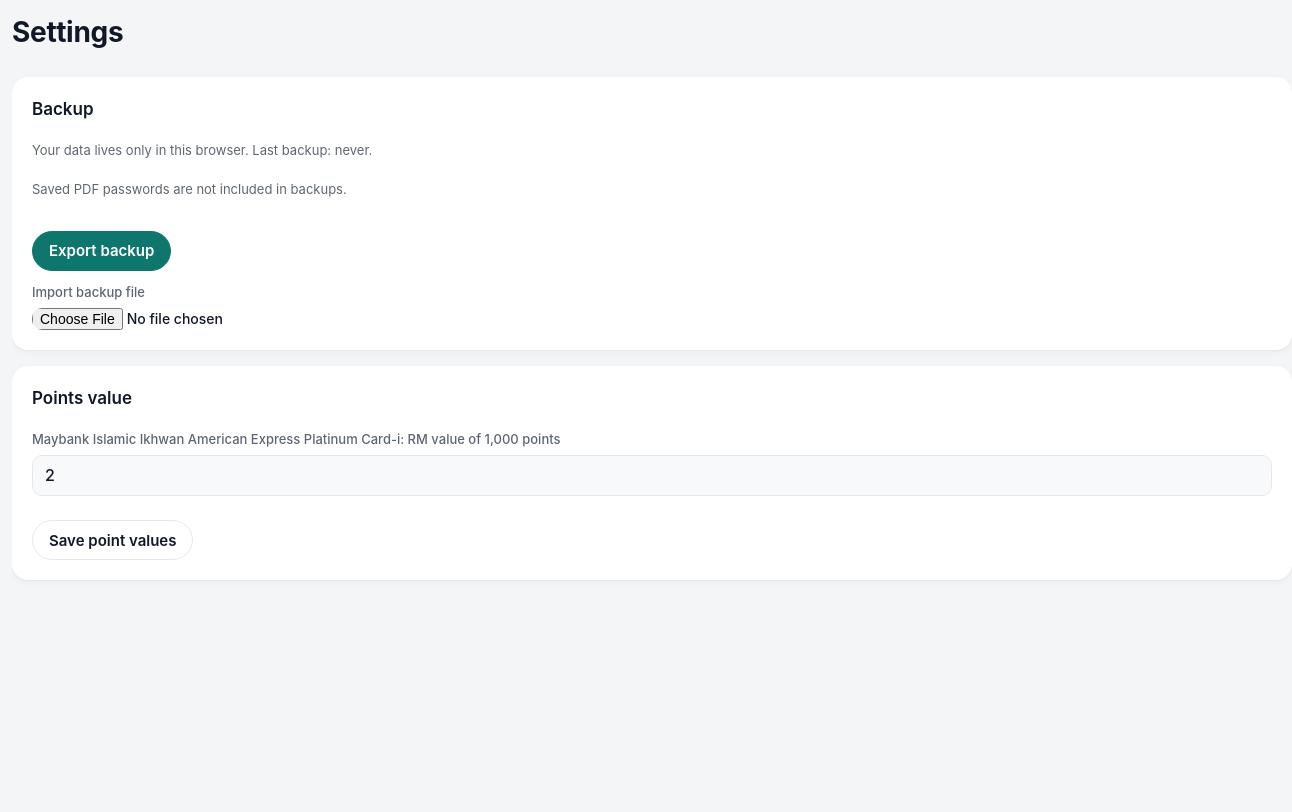
Test case: SettingsPage › lets a hybrid cashback+points card set its point value
The width and height of the screenshot is (1292, 812).
Replace the text in the field named "RM value of 1,000 points" with "4": (652, 476) [32,455,1272,496]
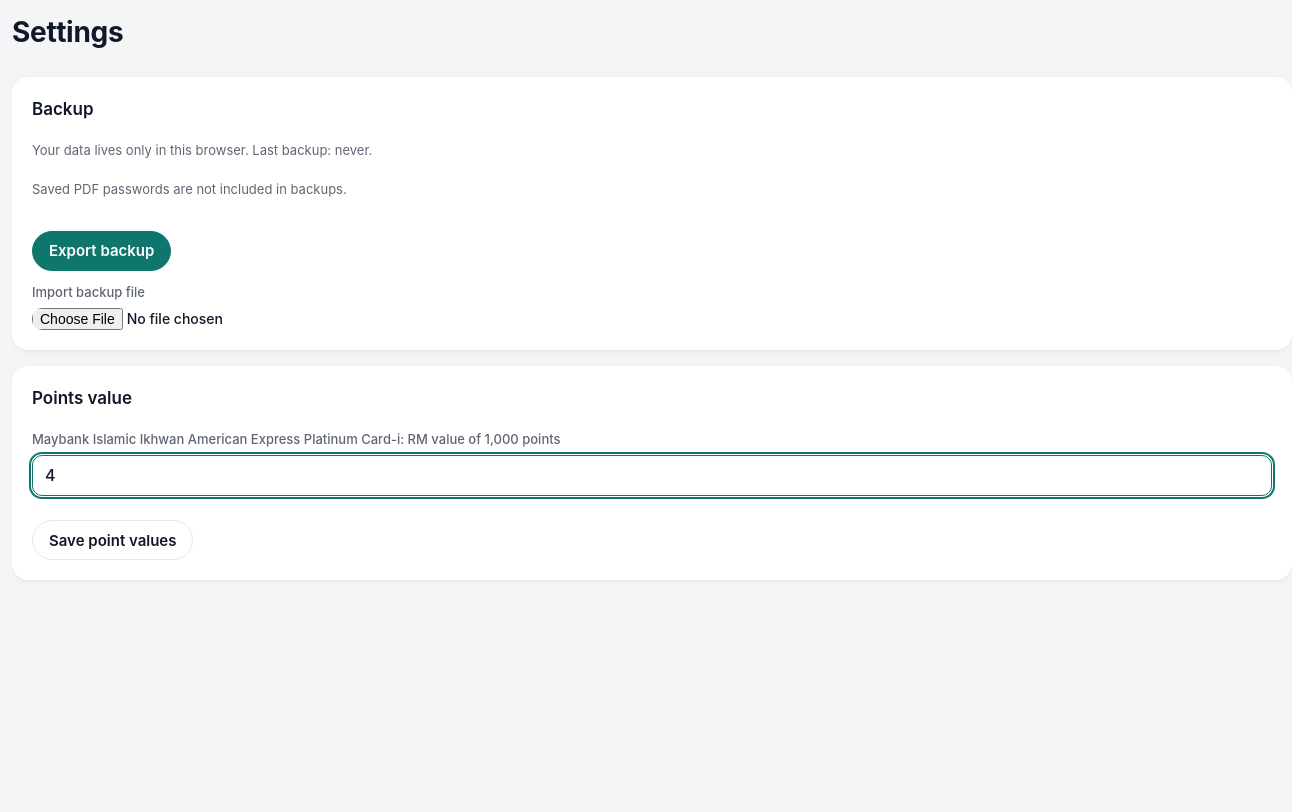
Click the button "Save point values": (113, 540) [32,520,194,560]
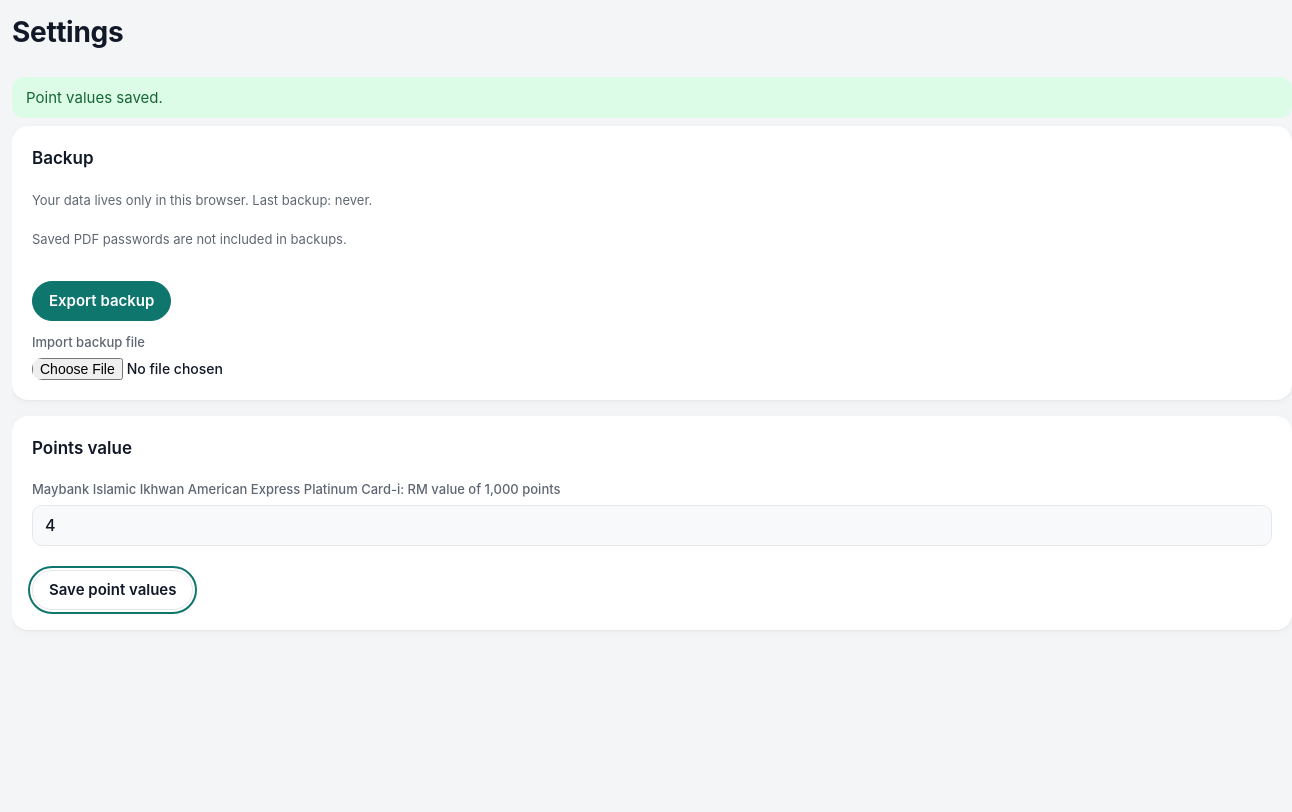
Expected: the text "Point values saved." is shown, [12,77,1291,118]
